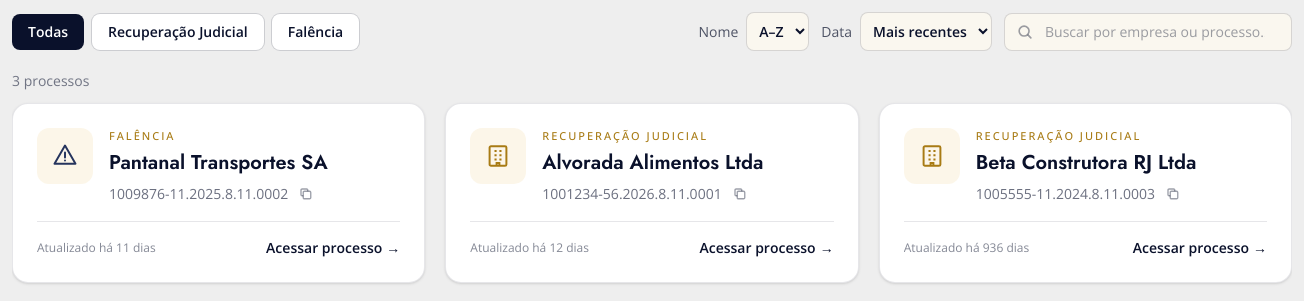
Test: CompanyPanel › shows the retry hint when the search matches nothing
The width and height of the screenshot is (1304, 301).
Type "inexistente" into the search field with placeholder "Buscar por empresa ou processo…" at (1148, 32), box left=1004, top=12, right=1292, bottom=50
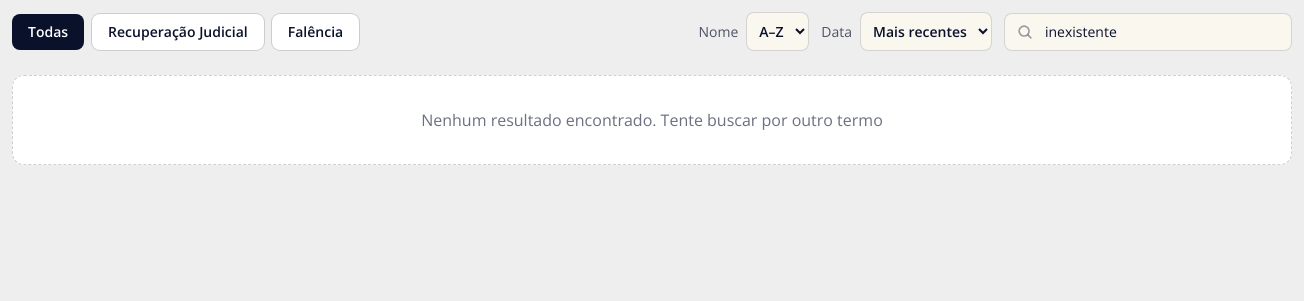
Check: the text "Nenhum resultado encontrado. Tente buscar por outro termo" is shown, box left=12, top=75, right=1292, bottom=165
